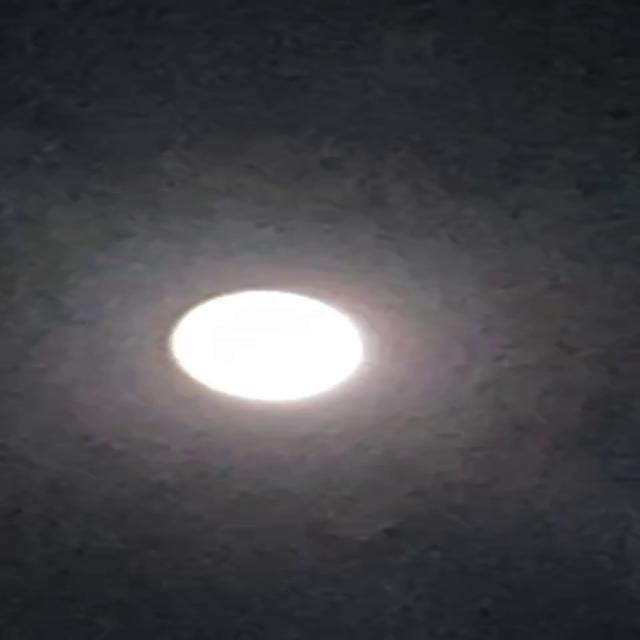moon: (114, 250, 344, 394)
